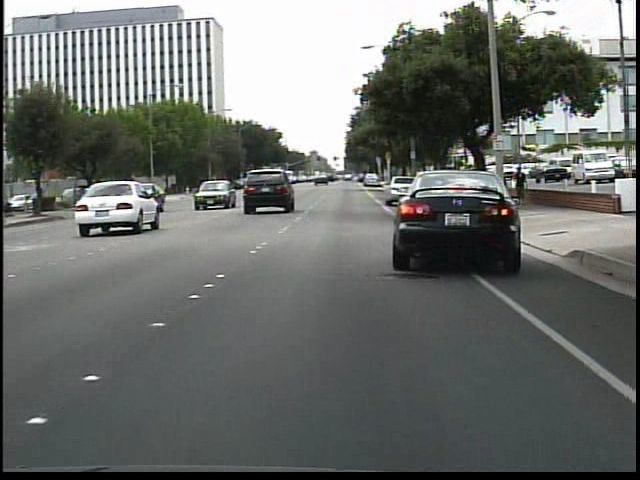person: (511, 162, 530, 202), (496, 166, 513, 206)
